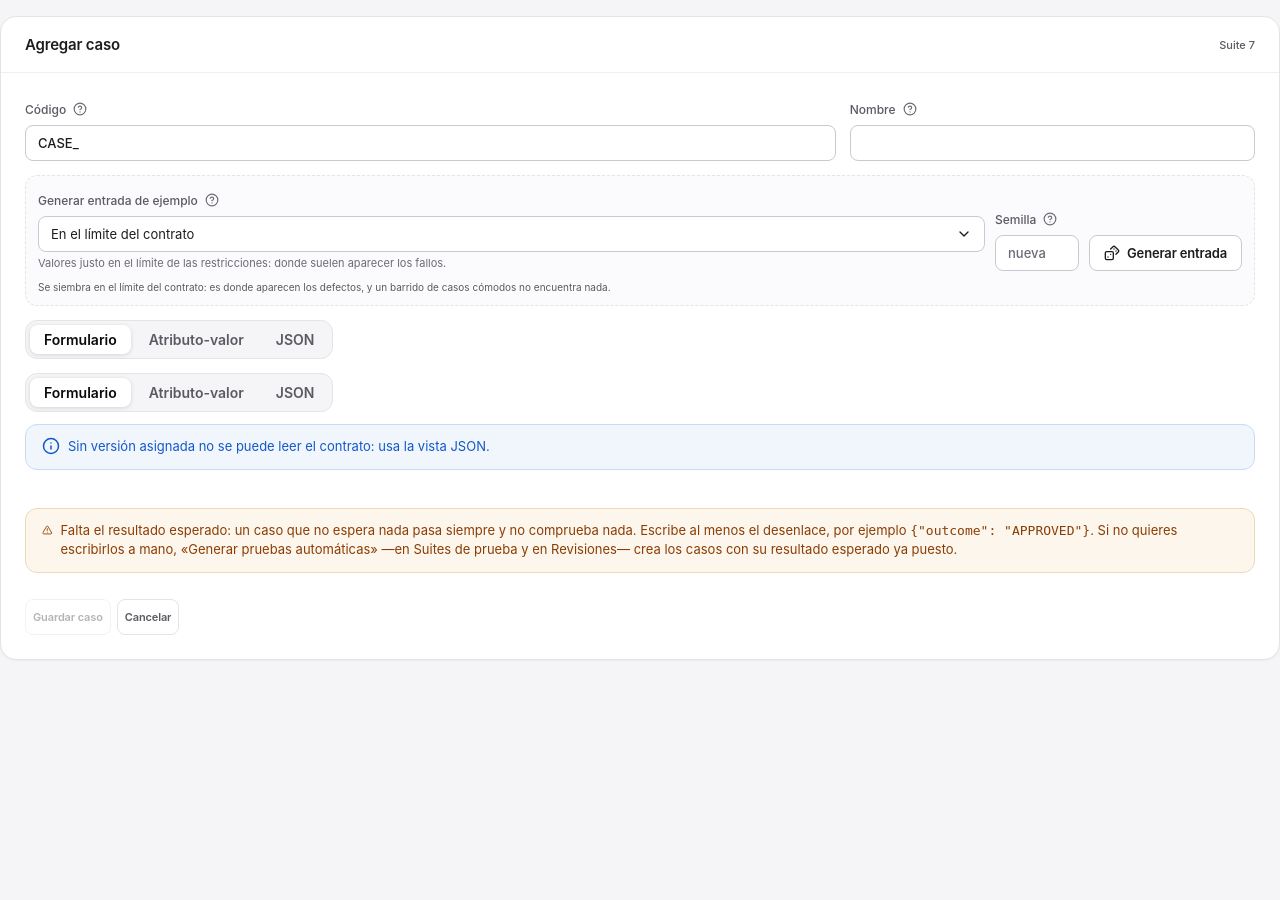
Generar entrada de un caso de prueba › la clase de valores la decide el TIPO de suite, no la última elección
The width and height of the screenshot is (1280, 900).
Click the button "Generar entrada" at (1166, 253), box [1089, 235, 1242, 271]
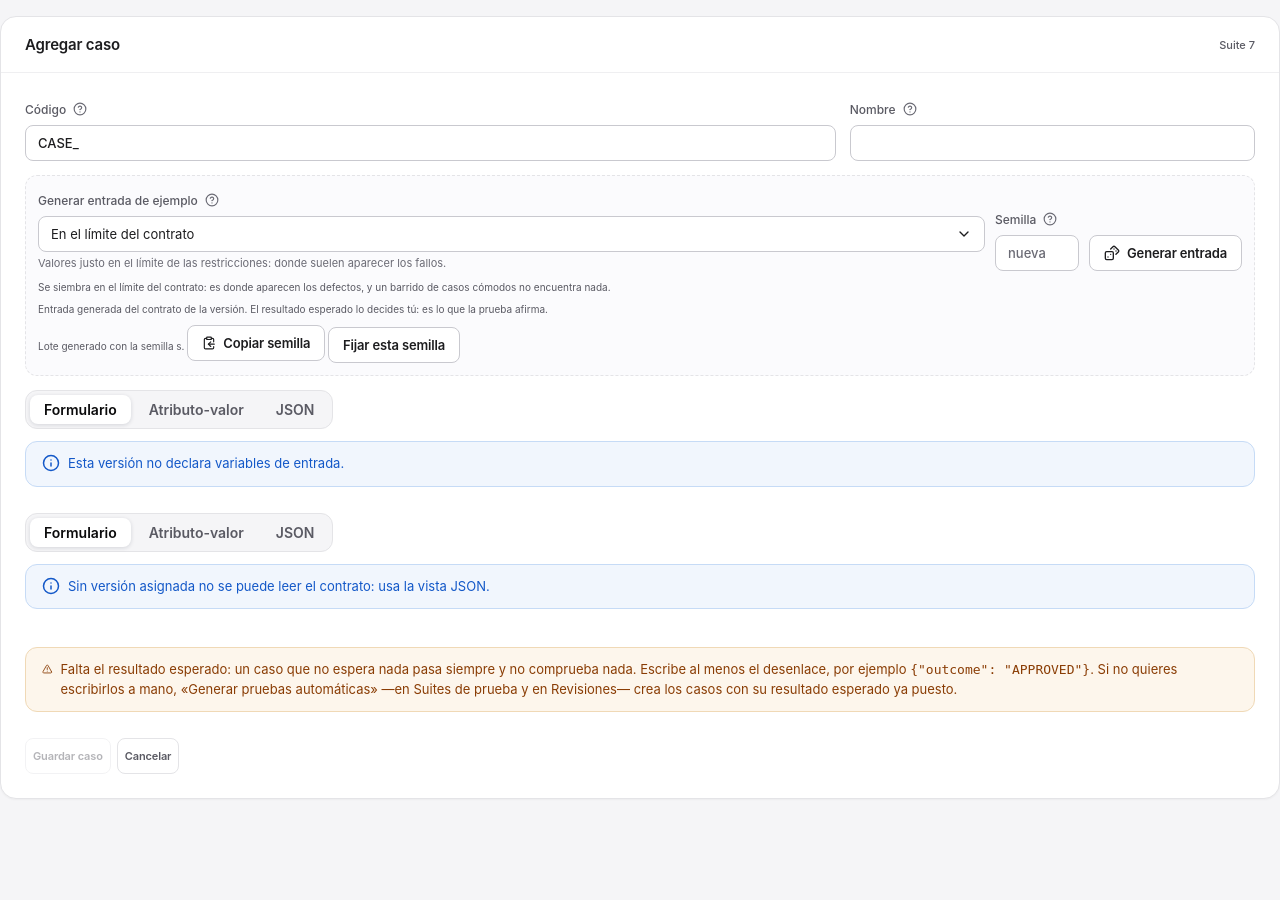
Check: the text "semilla s" is shown, box [38, 325, 460, 363]
